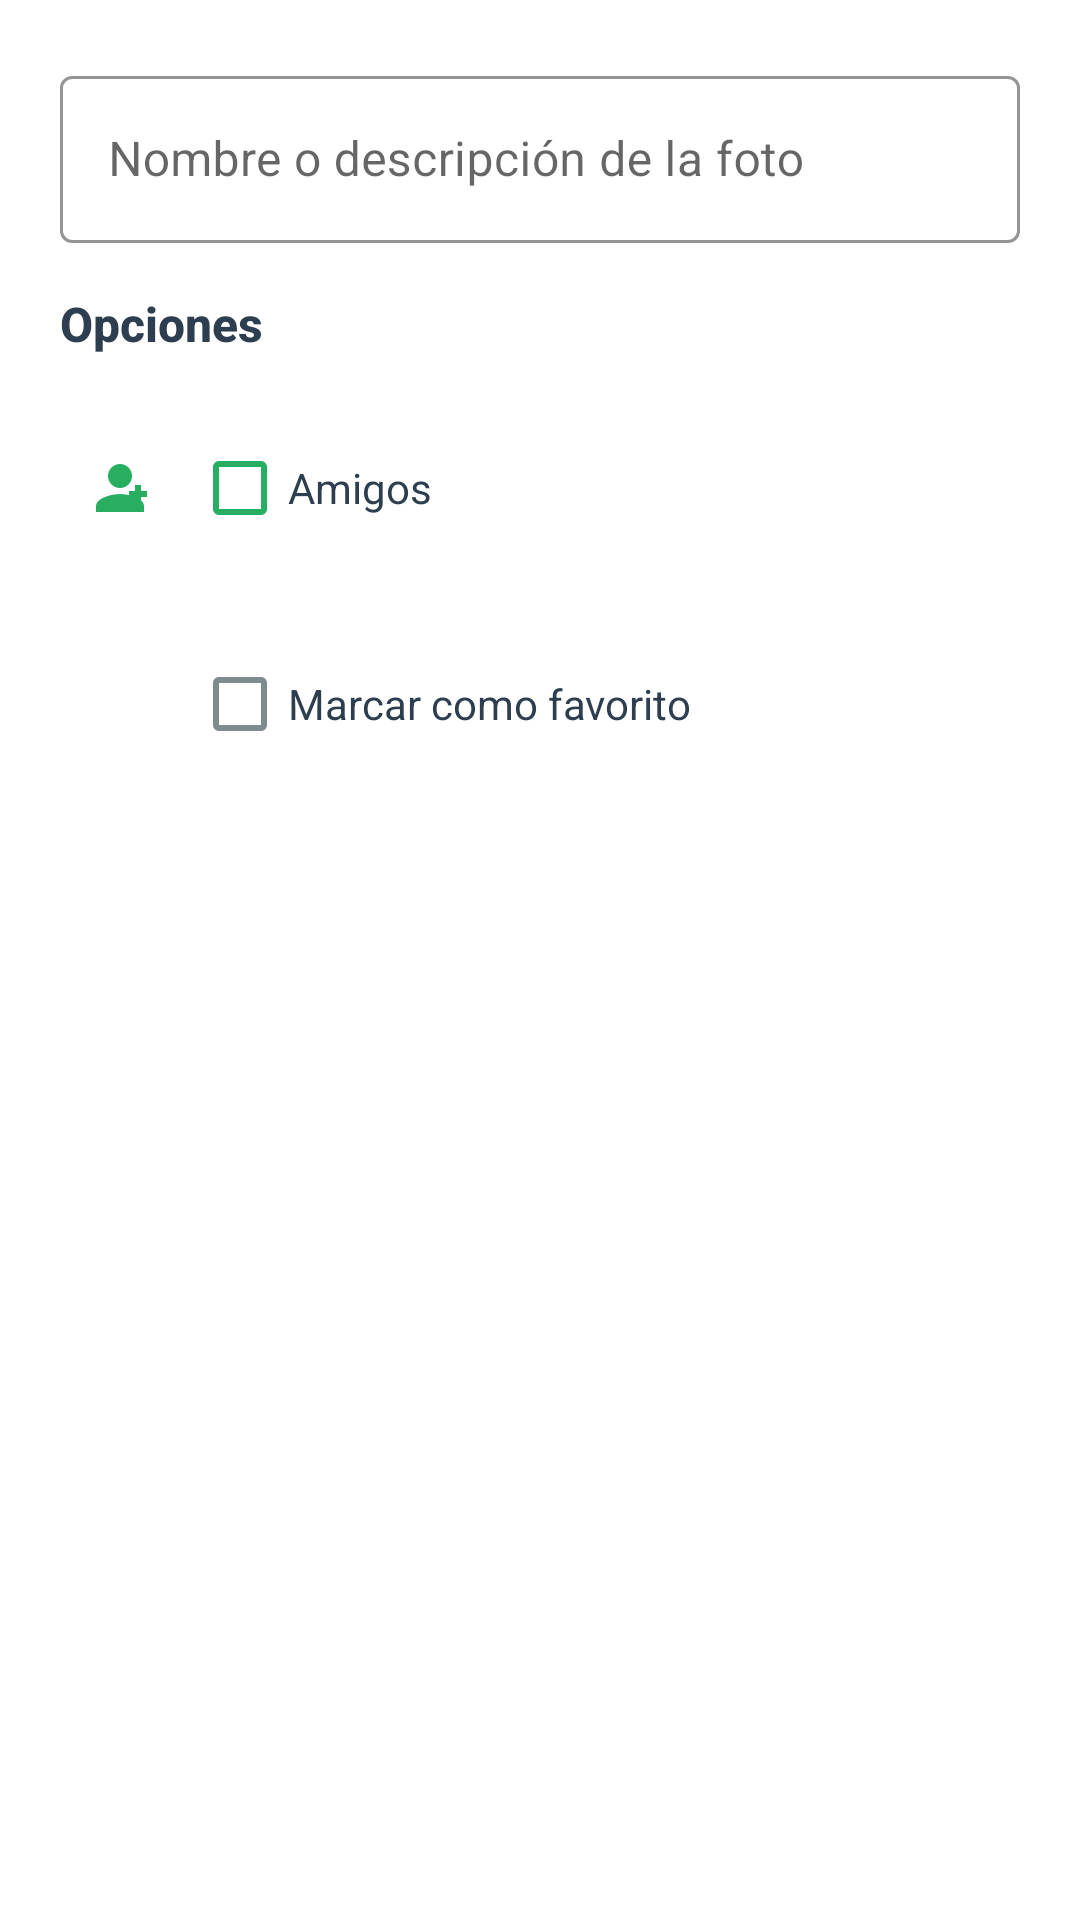

Point at icon controls on the screen. Image size 1080w x 1920h, points as (x,y).
follow: (121,488)
